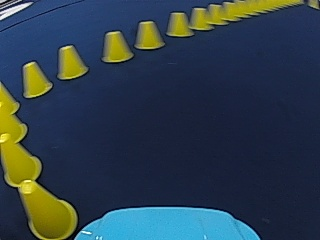cone: (16, 179, 76, 237), (0, 136, 42, 183), (1, 83, 26, 140), (20, 59, 51, 98), (56, 44, 88, 79), (101, 30, 133, 63), (134, 20, 164, 49), (165, 11, 191, 37), (189, 7, 209, 30), (206, 4, 226, 25)
